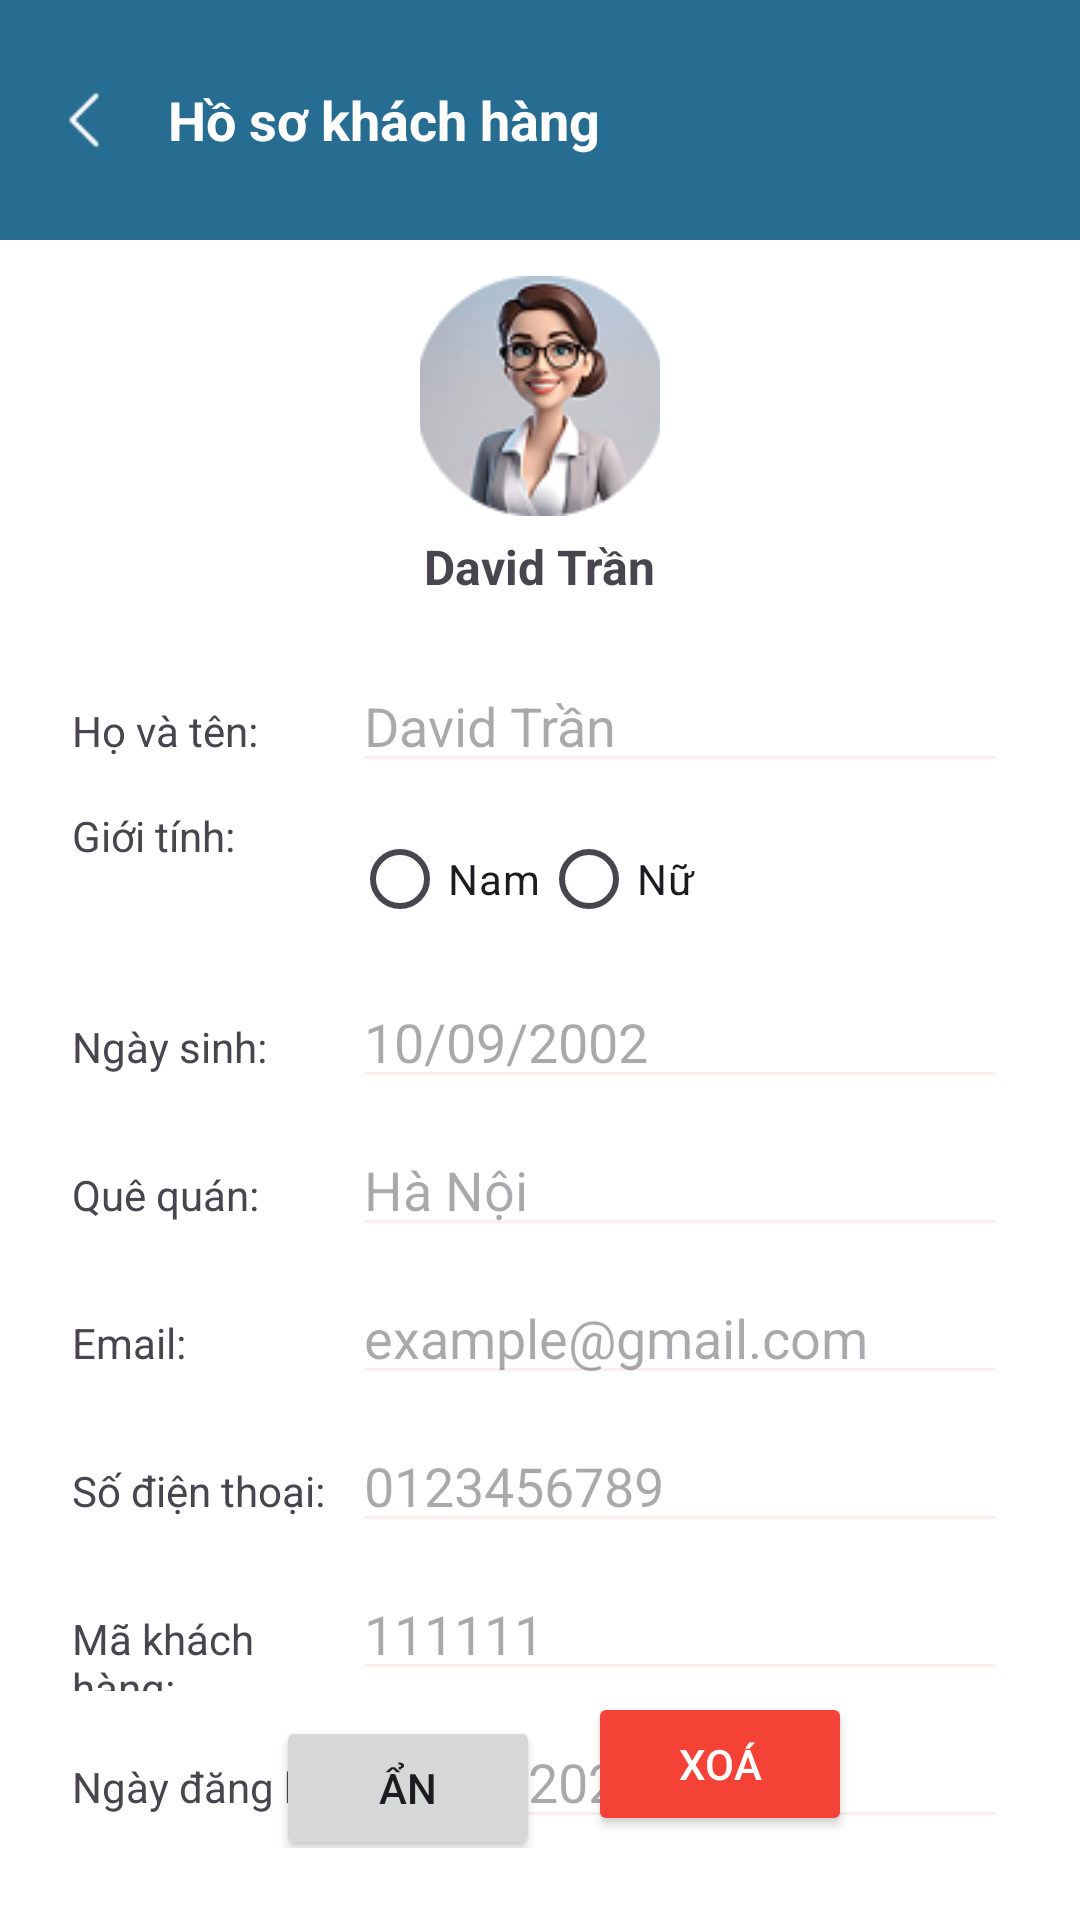

Where icons sit on this 1080w x 1920h app screen, as (x1,y1,x2,y2):
Back: (69,93,99,147)
